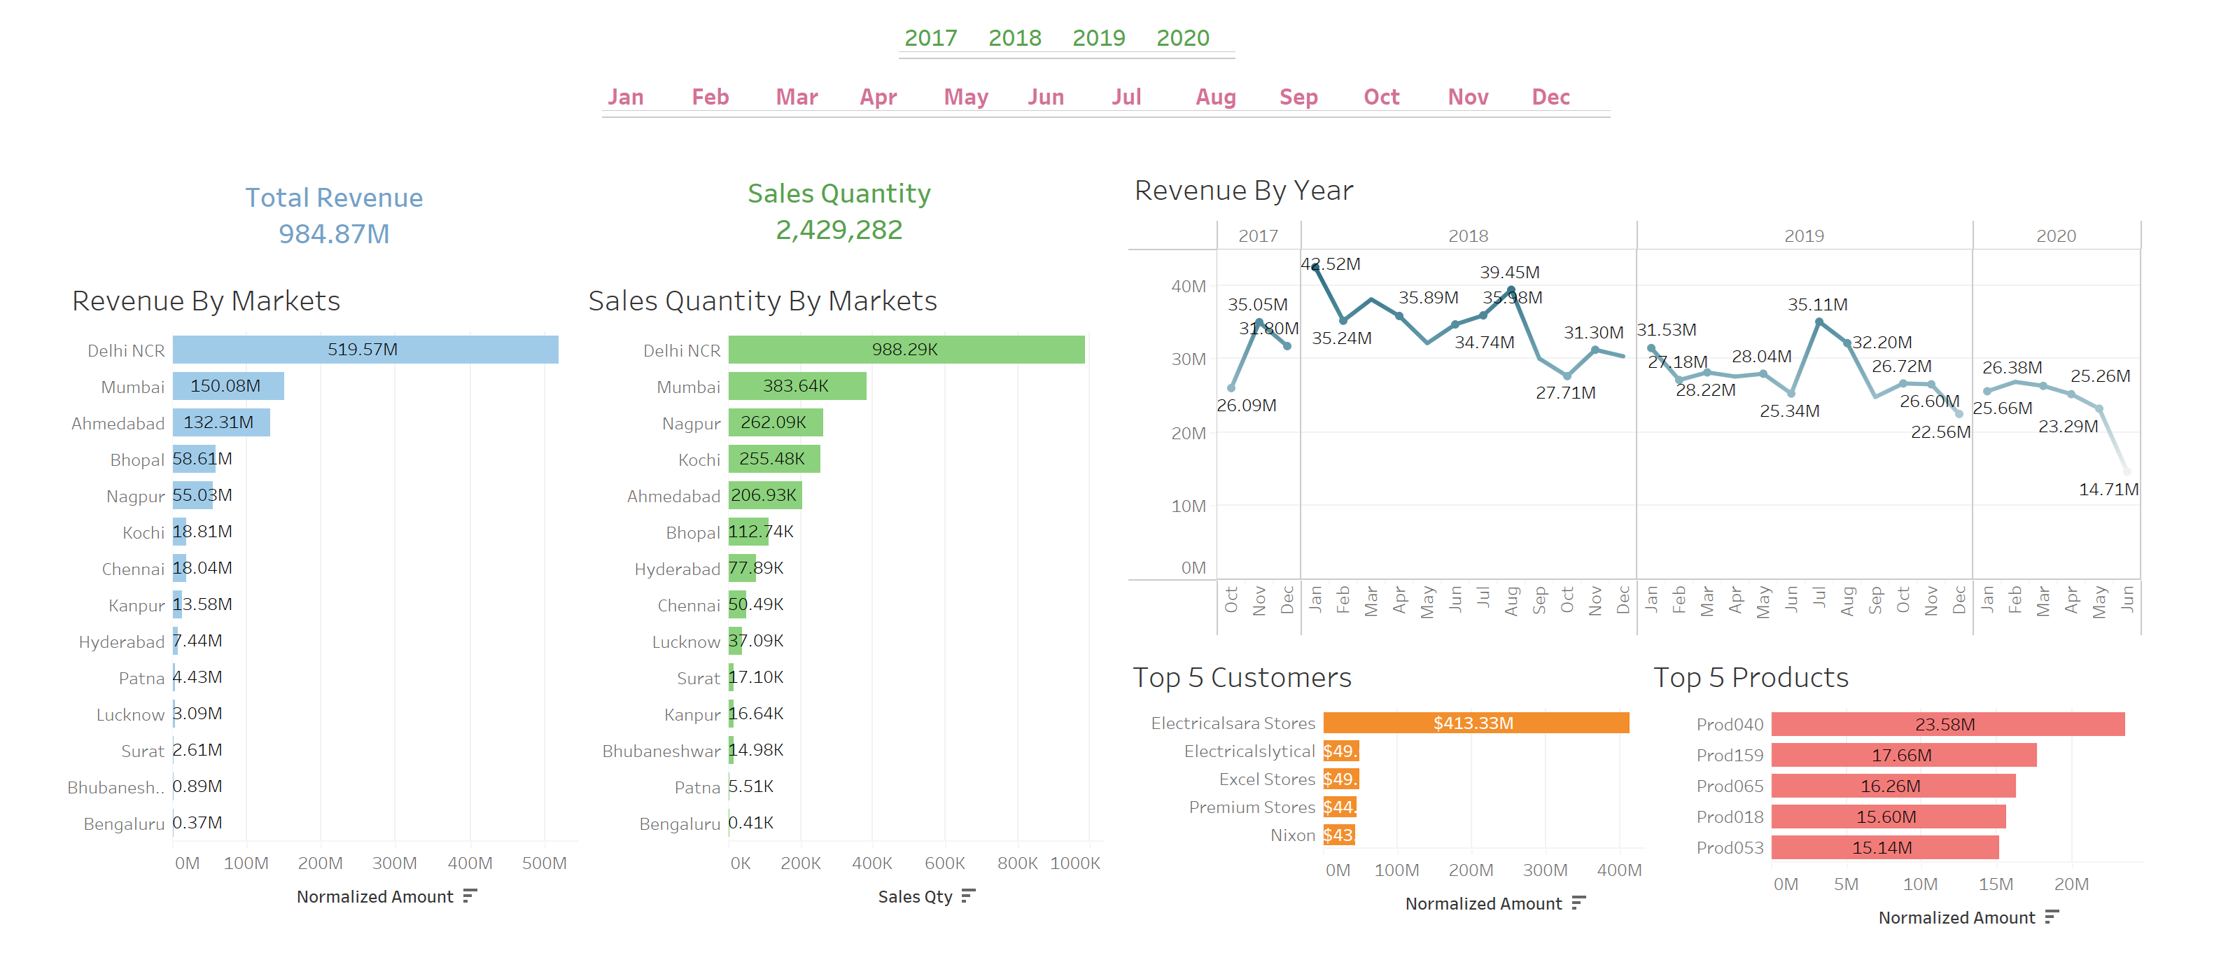

The dashboard page shown, as its layout file describes it:
{"tool":"tableau","page":{"name":"Dashboard - Revenue Analysis","canvas":[1500,900],"ordinal":1},"visuals":[{"type":"worksheet","title":"Year","mark":"Automatic","cols":["cy_date"],"box":[597,5,258,58]},{"type":"worksheet","title":"Month","mark":"Automatic","cols":["cy_date"],"box":[385,48,721,45]},{"type":"worksheet","title":"Quantity","mark":"Automatic","box":[485,114,161,84]},{"type":"worksheet","title":"Revenue","mark":"Automatic","box":[124,117,232,107]},{"type":"worksheet","title":"Revenue By Year","mark":"Automatic","rows":["Calculation_996421462989475840"],"cols":["cy_date","cy_date"],"box":[761,119,724,340]},{"type":"worksheet","title":"Revenue By Markets","mark":"Automatic","rows":["markets_name"],"cols":["Calculation_996421462989475840"],"box":[2,198,366,527]},{"type":"worksheet","title":"Sales Quantity By Markets","mark":"Automatic","rows":["markets_name"],"cols":["sales_qty"],"box":[371,198,372,496]},{"type":"worksheet","title":"Top 5 Customers","mark":"Automatic","rows":["custmer_name"],"cols":["Calculation_996421462989475840"],"box":[760,467,370,223]},{"type":"worksheet","title":"Top 5 Products","mark":"Automatic","rows":["product_code (products)"],"cols":["Calculation_996421462989475840"],"box":[1132,467,354,241]}]}

Visuals, with their boxes on the page's 1500x900 design canvas (x1, y1, x2, y2). These are canvas units, not pixel positions in the 2215x970 screenshot, which may show the page scaled, cropped or inside an application window:
"Year" worksheet: l=597, t=5, r=855, b=63
"Month" worksheet: l=385, t=48, r=1106, b=93
"Quantity" worksheet: l=485, t=114, r=646, b=198
"Revenue" worksheet: l=124, t=117, r=356, b=224
"Revenue By Year" worksheet: l=761, t=119, r=1485, b=459
"Revenue By Markets" worksheet: l=2, t=198, r=368, b=725
"Sales Quantity By Markets" worksheet: l=371, t=198, r=743, b=694
"Top 5 Customers" worksheet: l=760, t=467, r=1130, b=690
"Top 5 Products" worksheet: l=1132, t=467, r=1486, b=708
